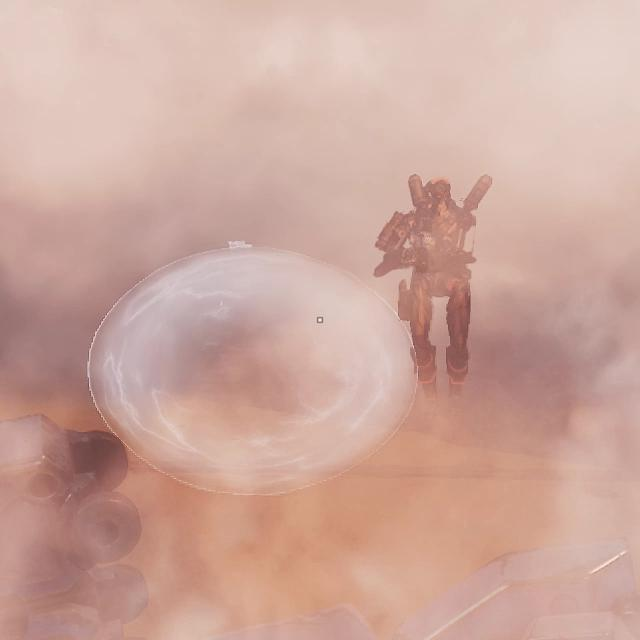avatar: (369, 168, 498, 399)
